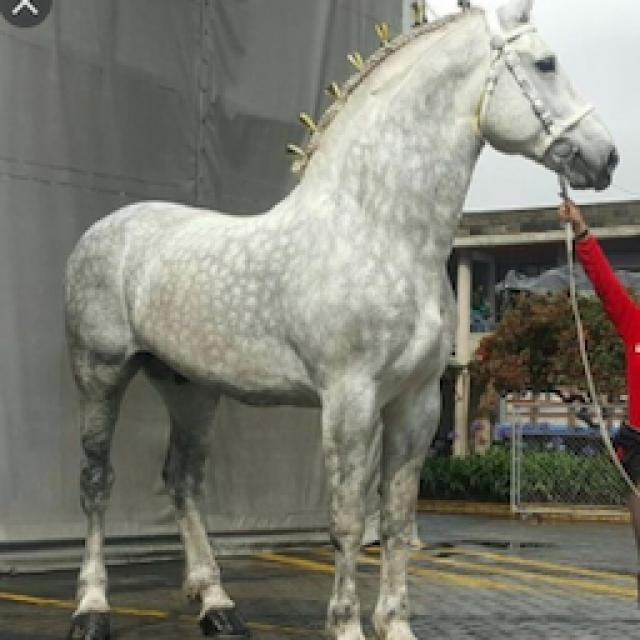Horse: (52, 0, 626, 638)
